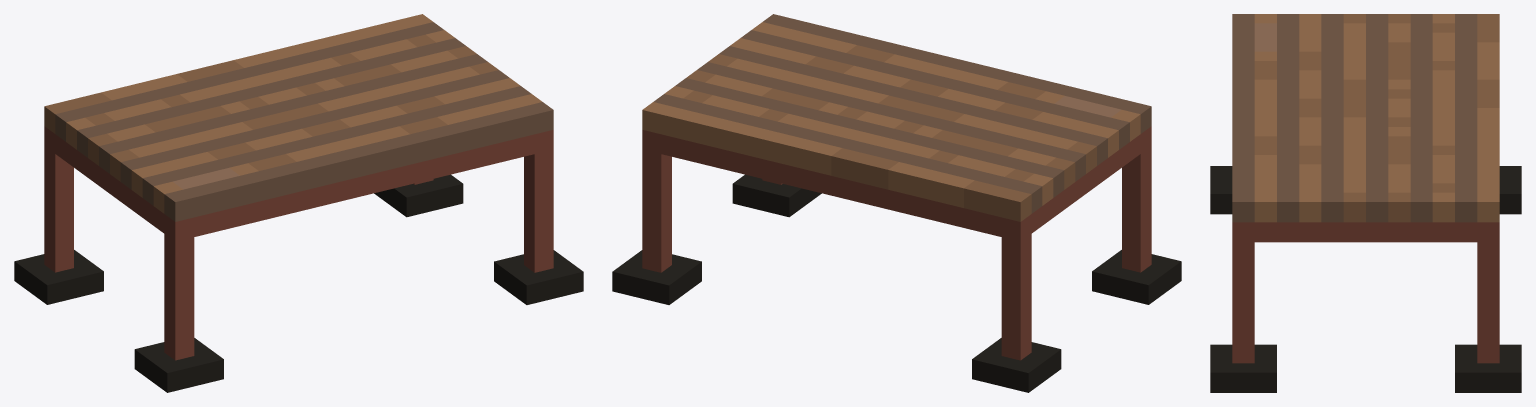
The model's file is Medieval Assets-19-Decoration - Table - Plank Variant1.obj.
3 views of the same model, side by side, from view 1: azimuth 30°, elevation 25°; view 2: azimuth 150°, elevation 25°; view 3: azimuth 270°, elevation 25° (orthographic).
Visible parts, largest first — view 1: Decoration - Table - Plank Variant1; view 2: Decoration - Table - Plank Variant1; view 3: Decoration - Table - Plank Variant1.
Boxes of the visible parts, x1,y1,x2,y2 form: Decoration - Table - Plank Variant1: [14, 14, 583, 392]; Decoration - Table - Plank Variant1: [612, 14, 1181, 392]; Decoration - Table - Plank Variant1: [1210, 14, 1521, 392].
Bounding box in the file's own units: 2.2 × 0.9 × 1.4.
1 material, 1 textured.
